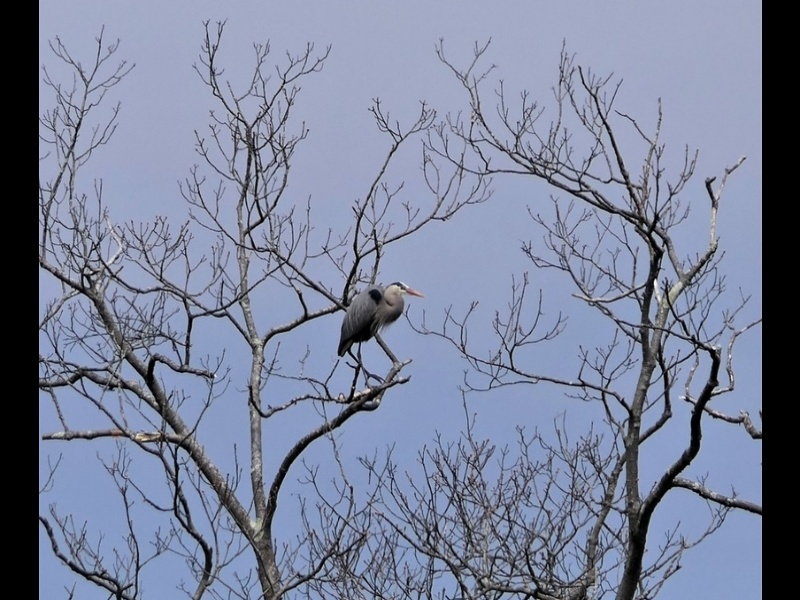heron: (336, 277, 422, 389)
